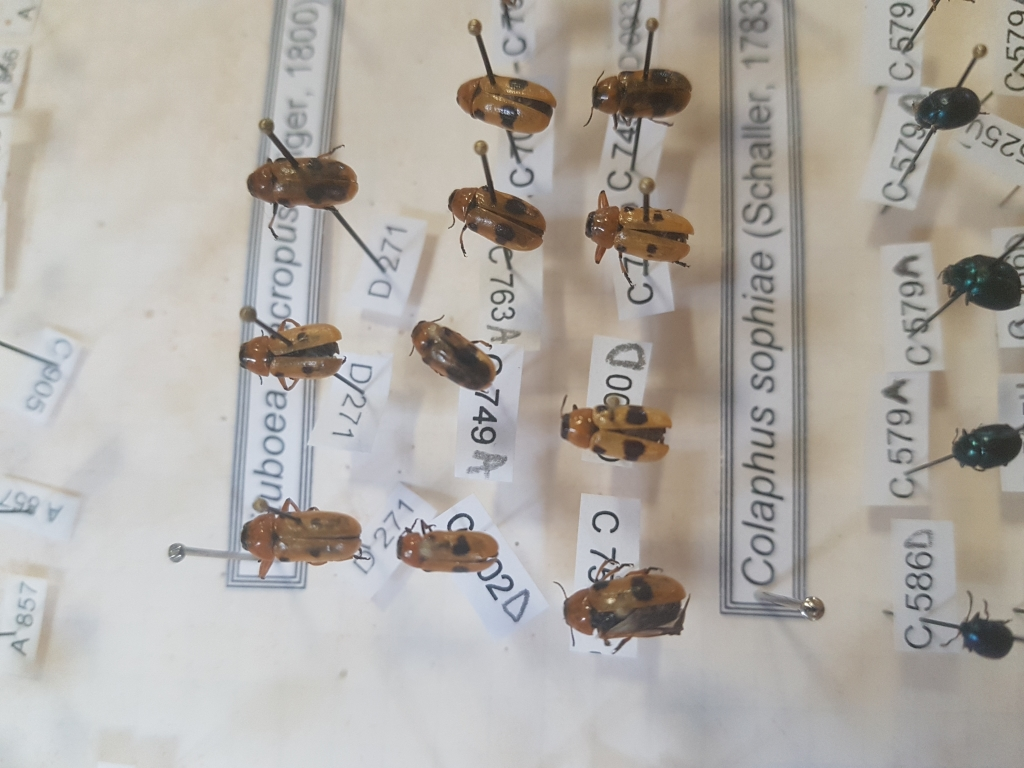Tituboea_macropus: (552, 553, 694, 643), (237, 495, 363, 580), (586, 188, 702, 272), (551, 387, 678, 463), (587, 60, 695, 136), (391, 517, 508, 582), (246, 152, 363, 216), (234, 322, 349, 386), (453, 74, 561, 137)
